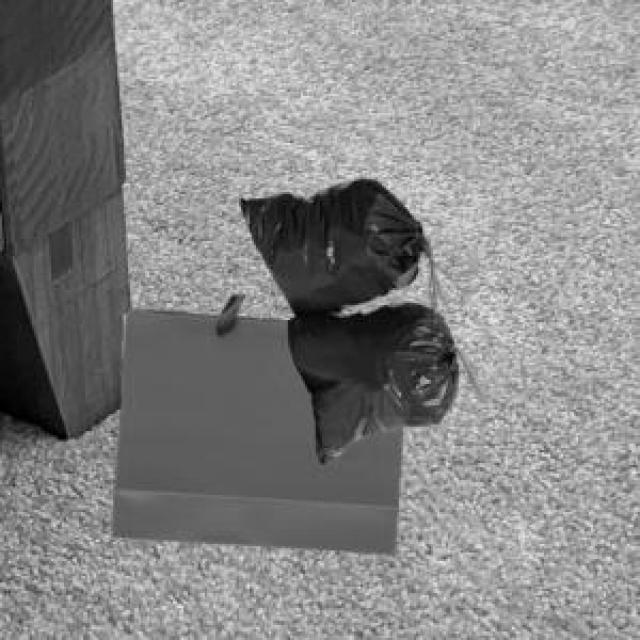miscellaneous trash: (237, 173, 480, 459)
paper: (109, 292, 399, 550)
